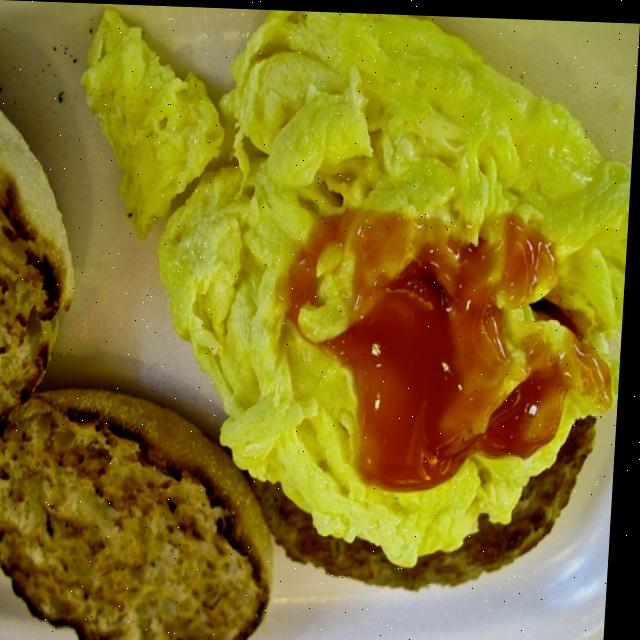鸡蛋料理: (93, 3, 634, 579)
